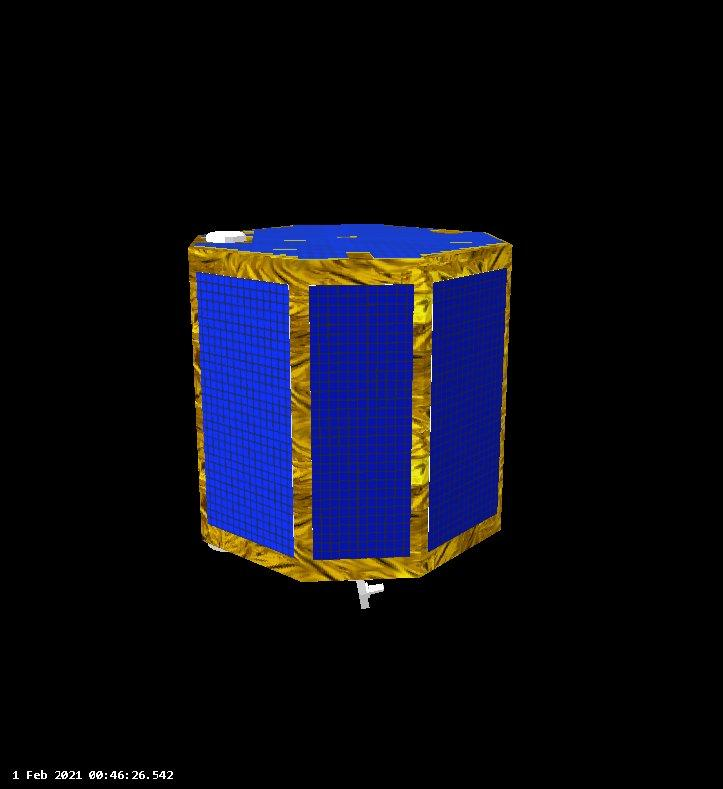body: (184, 219, 517, 586)
solar: (306, 282, 414, 561), (193, 267, 295, 562), (424, 264, 510, 556)
